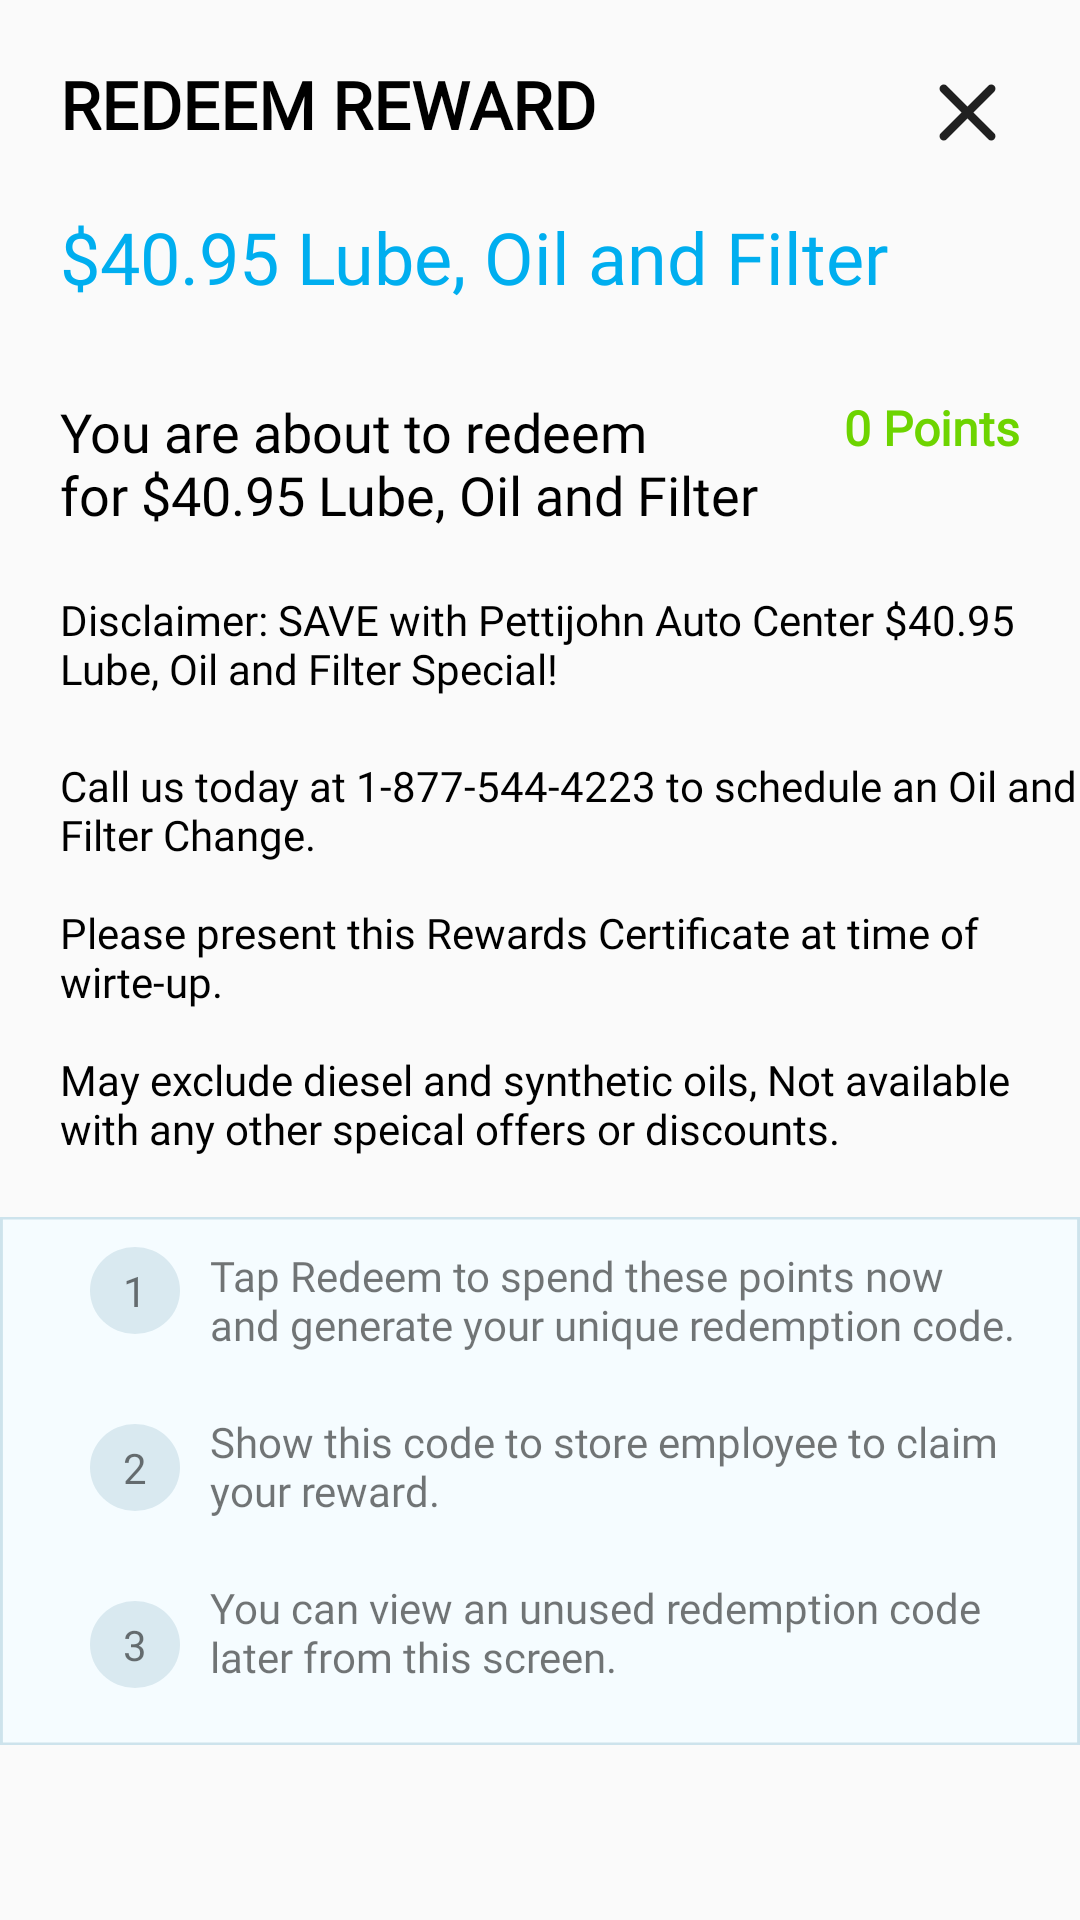

Screen size 1080px×1920px. Icon name, then its center in pixels as (x,y):
crossicon: (967,112)
